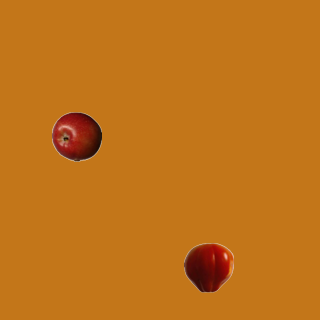Apple Braeburn: (51, 111, 101, 161)
Tomato 1: (183, 242, 233, 292)
